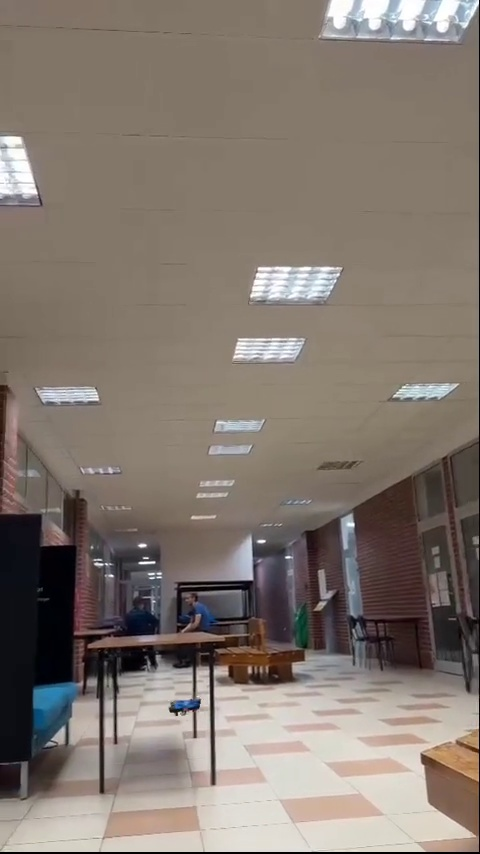drone: (167, 697, 203, 715)
no vest: (181, 593, 214, 636), (123, 598, 157, 633)
